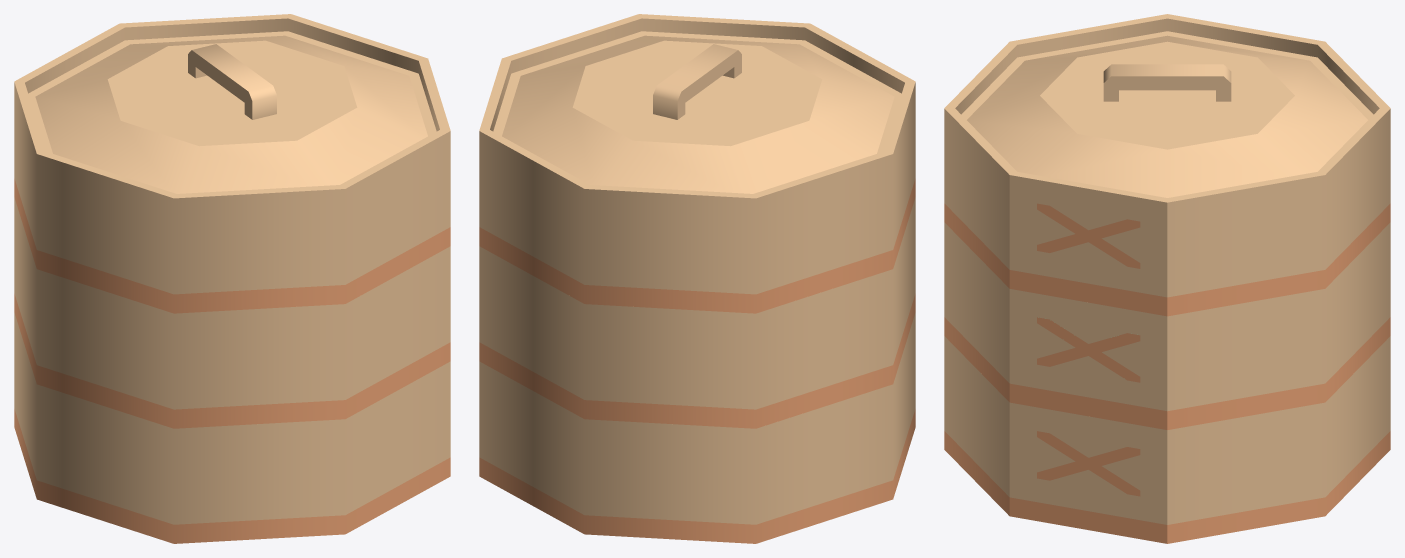
File: steamer.glb
3 renders of one model, left to right at view 1: azimuth 30°, elevation 25°; view 2: azimuth 150°, elevation 25°; view 3: azimuth 270°, elevation 25°, orthographic.
Visible parts, largest first — view 1: layer; view 2: layer; view 3: layer.
Boxes of the visible parts, <box> form: layer: <box>14,14,450,543</box>; layer: <box>479,14,915,543</box>; layer: <box>944,14,1390,543</box>.
Bounding box in the file's own units: 0.64 × 0.6 × 0.64.
